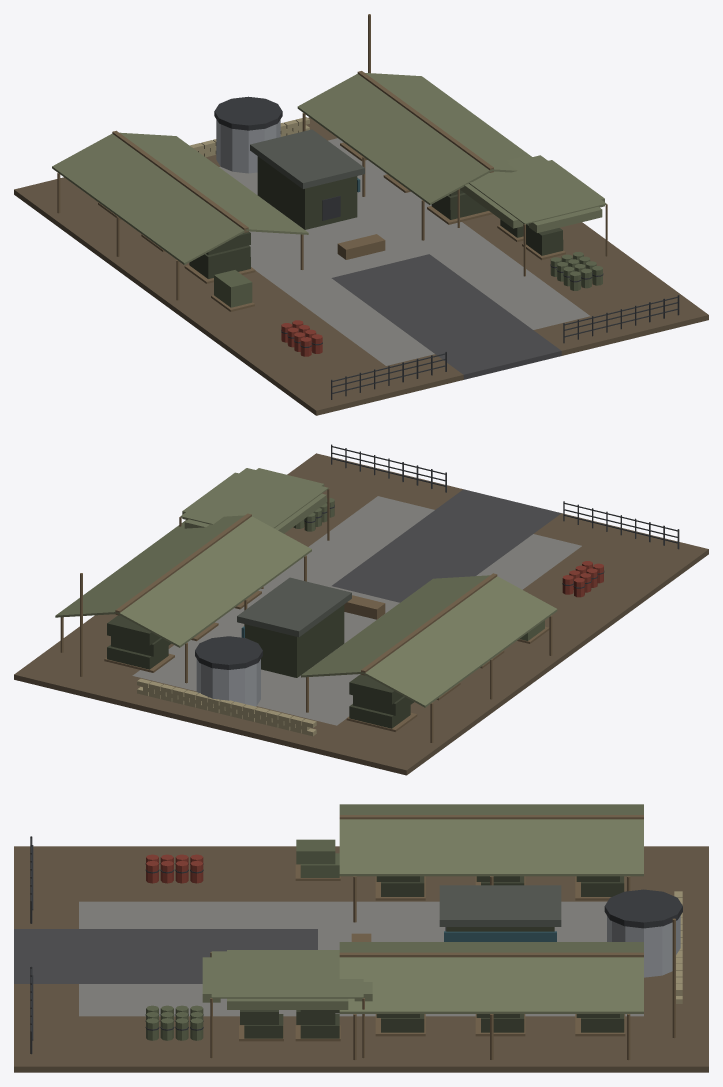
The model's file is Fort_SupplyDepot.obj.
3 views of the same model, one above another, from view 1: azimuth 30°, elevation 25°; view 2: azimuth 150°, elevation 25°; view 3: azimuth 270°, elevation 25° (orthographic). The views are drawn at different scales.
Bounding box in the file's own units: 24 × 6.3 × 32.
